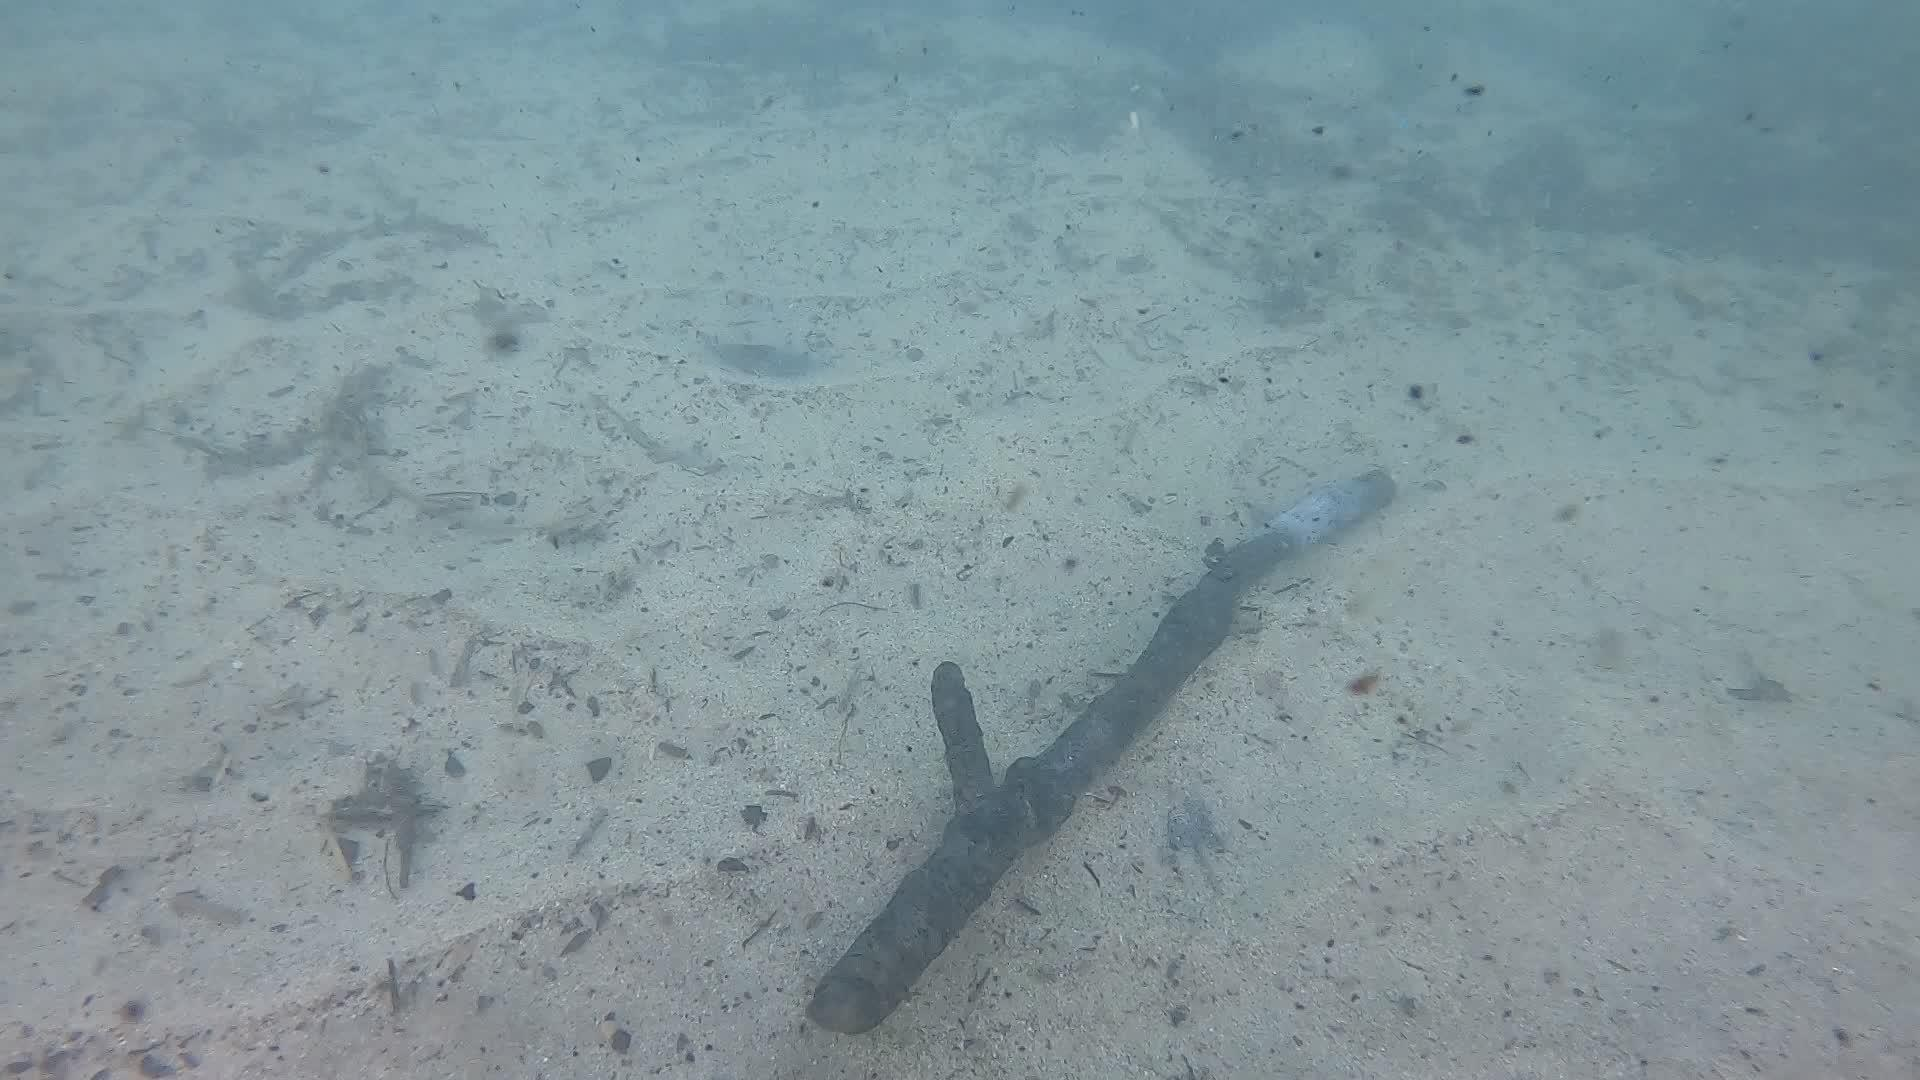wood: (806, 462, 1400, 1033)
